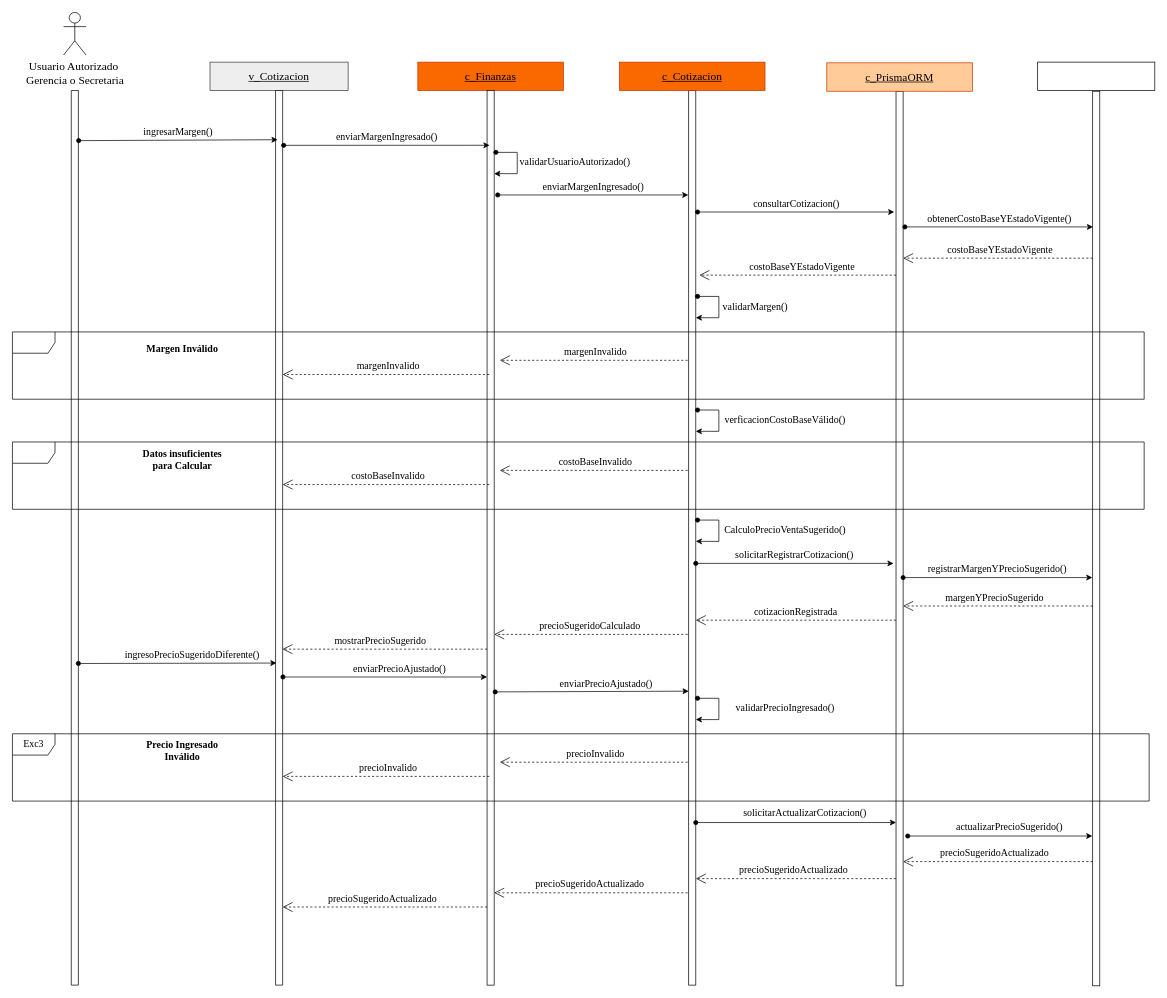
Image size: 1167x998. Some labels were removed from this diagram. The shapes that lost their labels are listed below. From the top down, each one's centre as x and y in pixels, then its label:
[1096,76]: cotizacion
[578,365]: Exc1
[578,475]: Exc2
